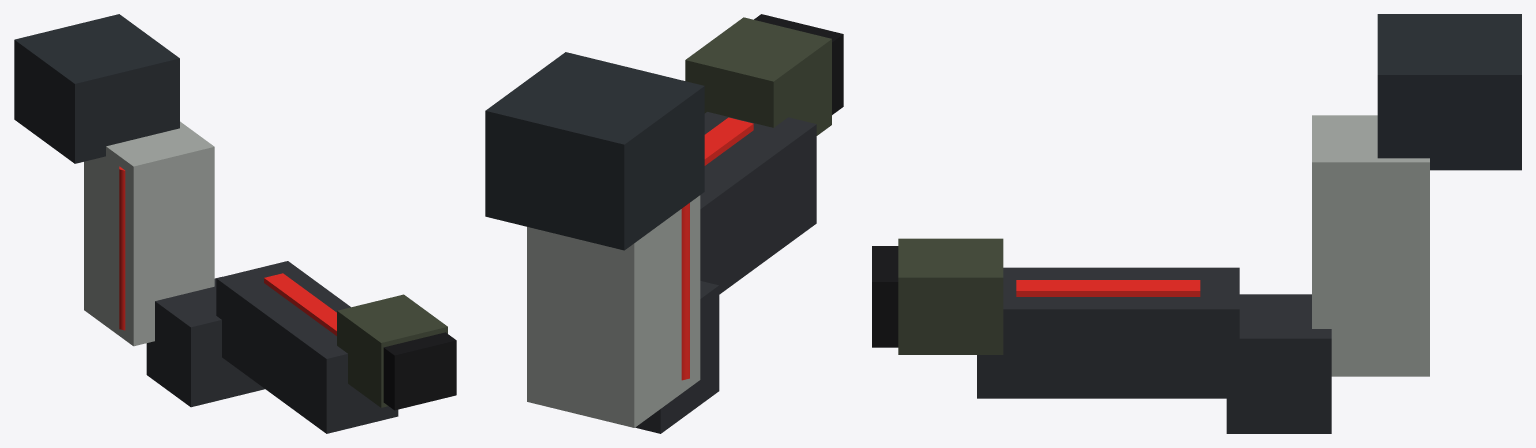
The model's file is mercenary_left_arm.obj.
3 renders of one model, left to right at view 1: azimuth 30°, elevation 25°; view 2: azimuth 150°, elevation 25°; view 3: azimuth 270°, elevation 25°, orthographic. The views are drawn at different scales.
Size of the model in its own units: 0.18 by 0.29 by 0.495.
